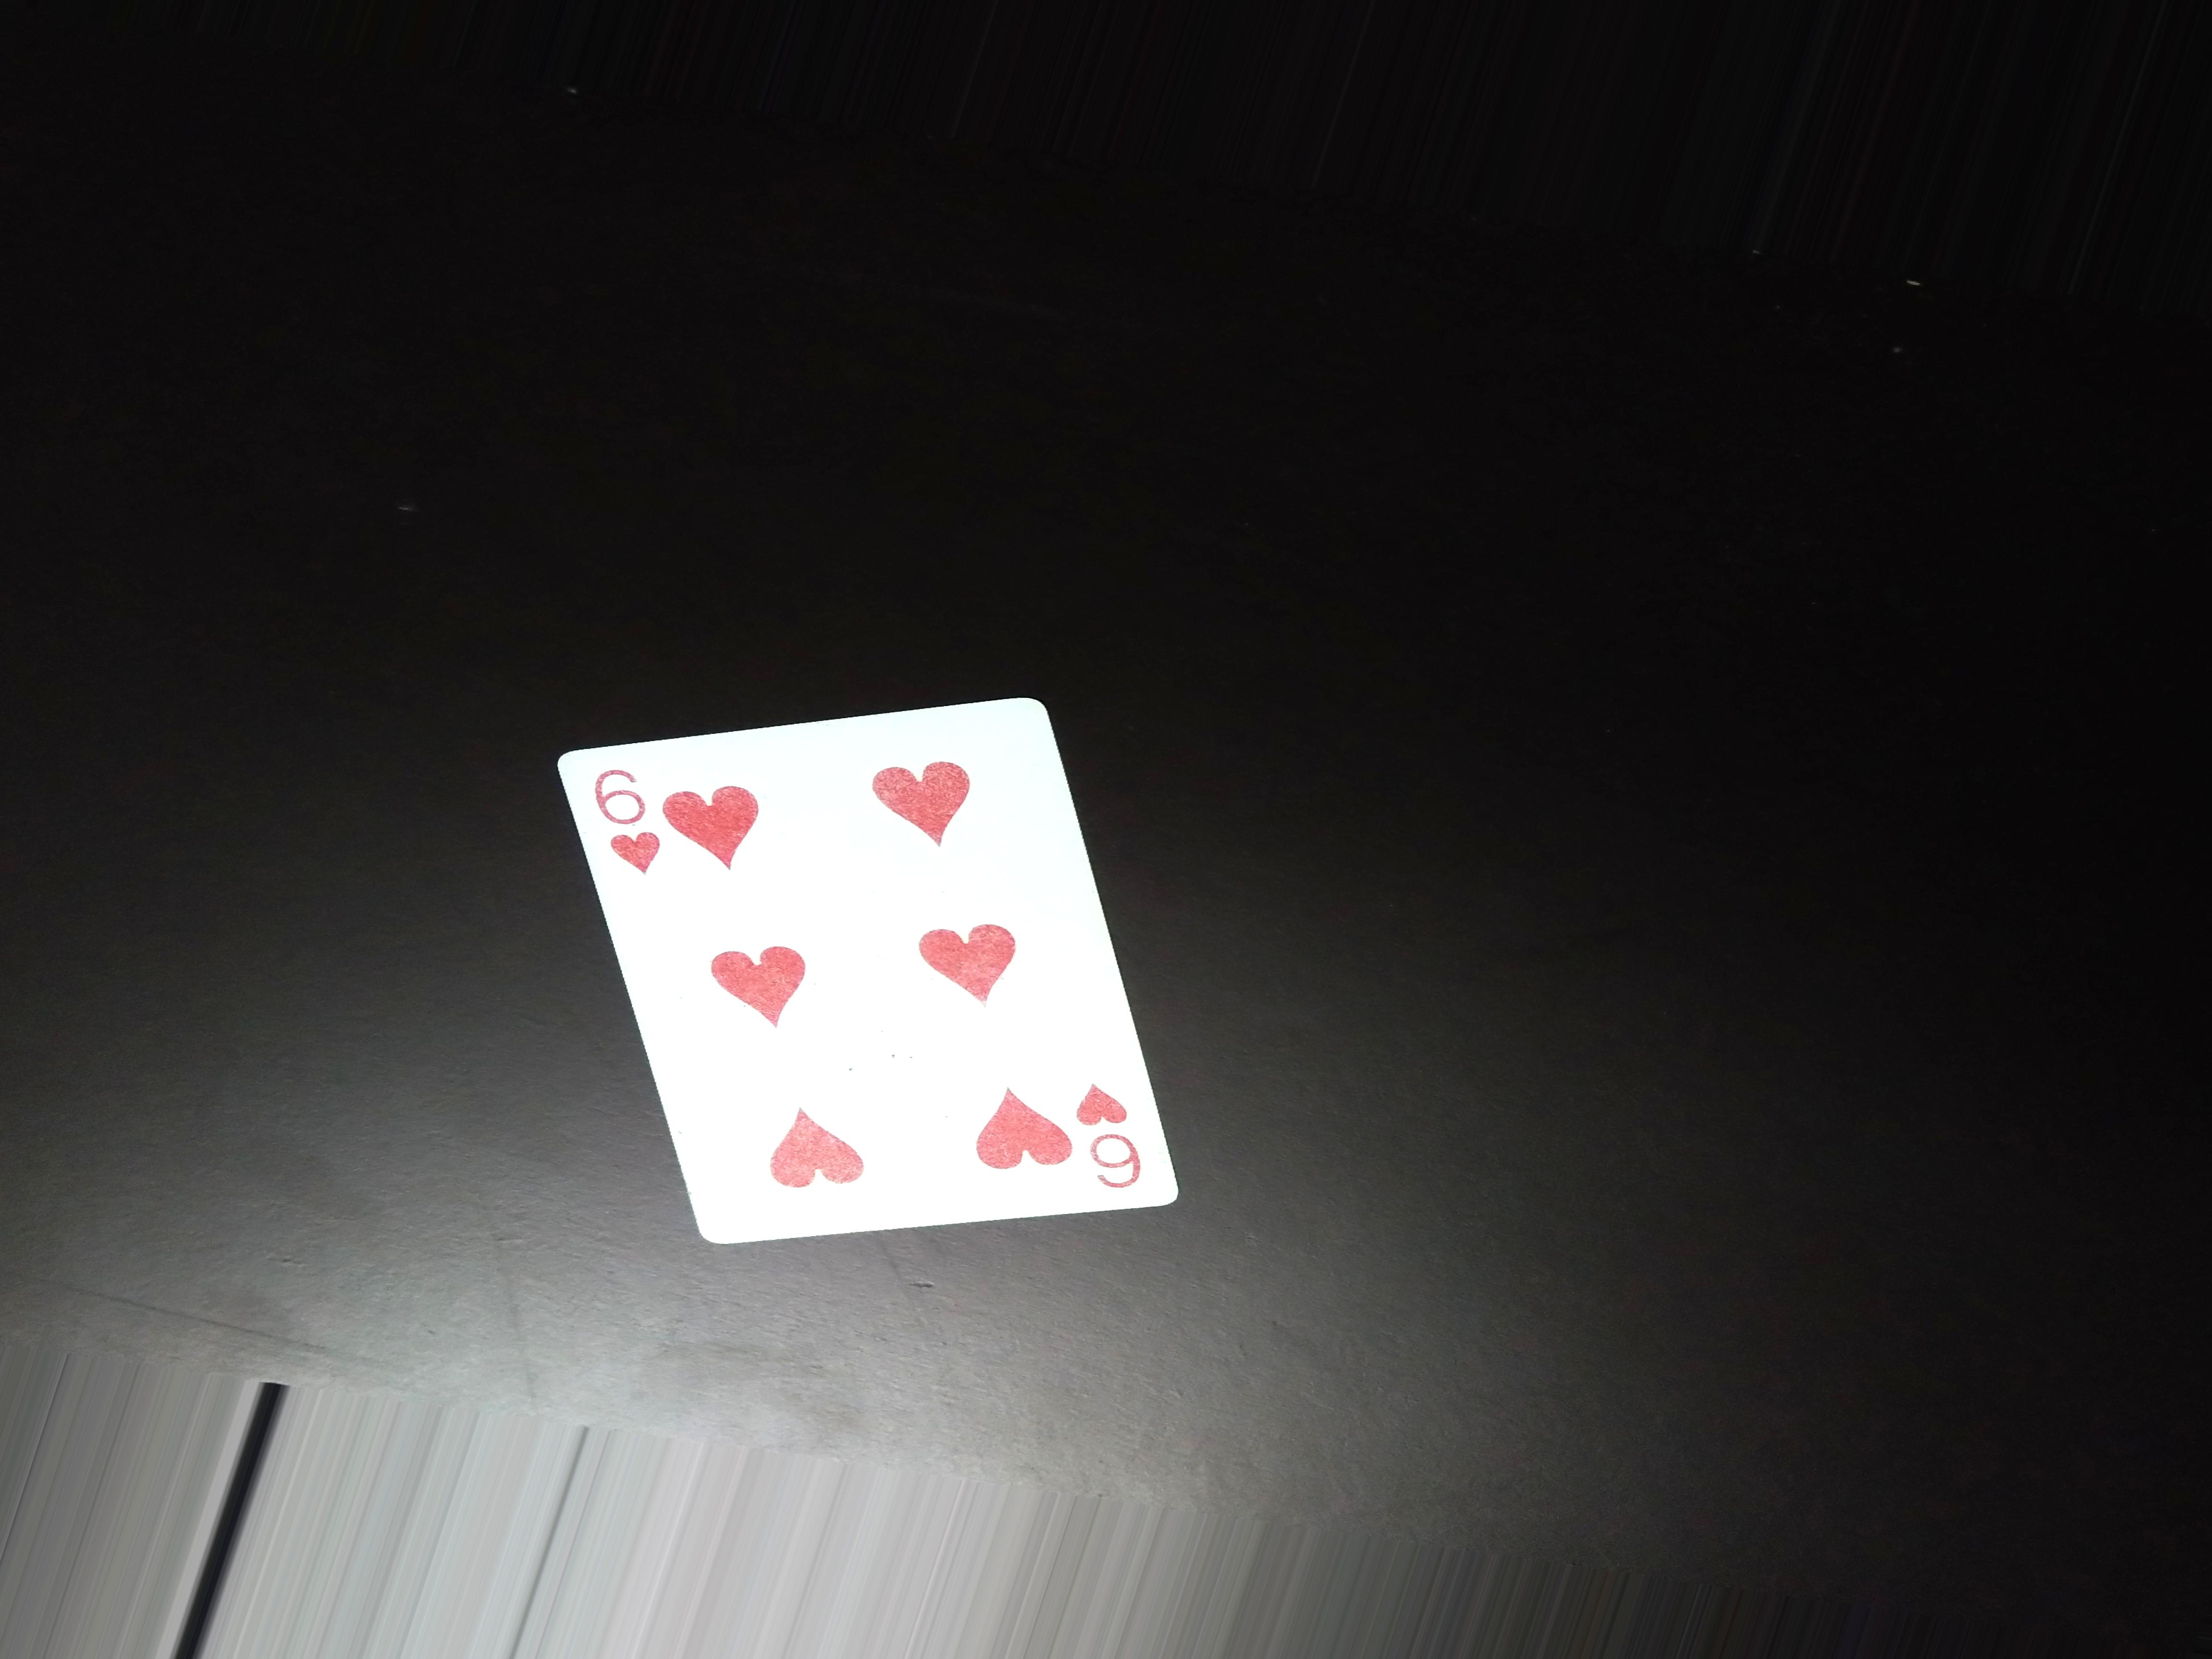6H: (1071, 1060, 1148, 1202)
